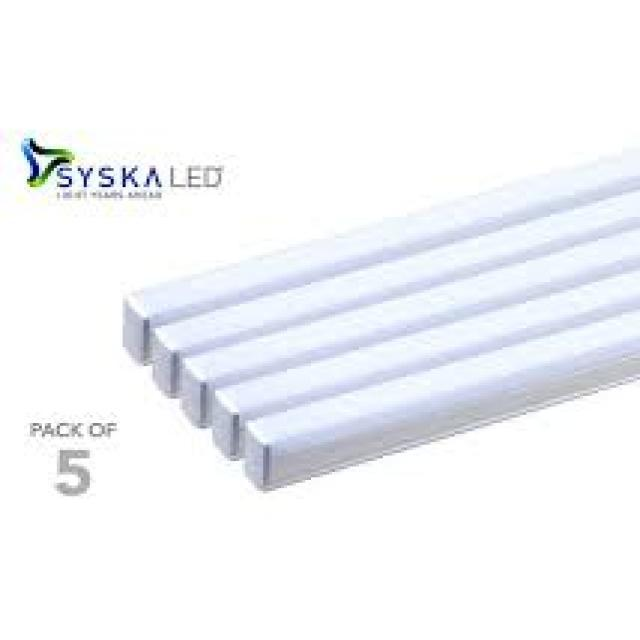tubelight_off: (122, 143, 640, 372), (141, 180, 640, 399), (170, 225, 640, 430), (206, 262, 640, 462), (240, 309, 640, 499)
